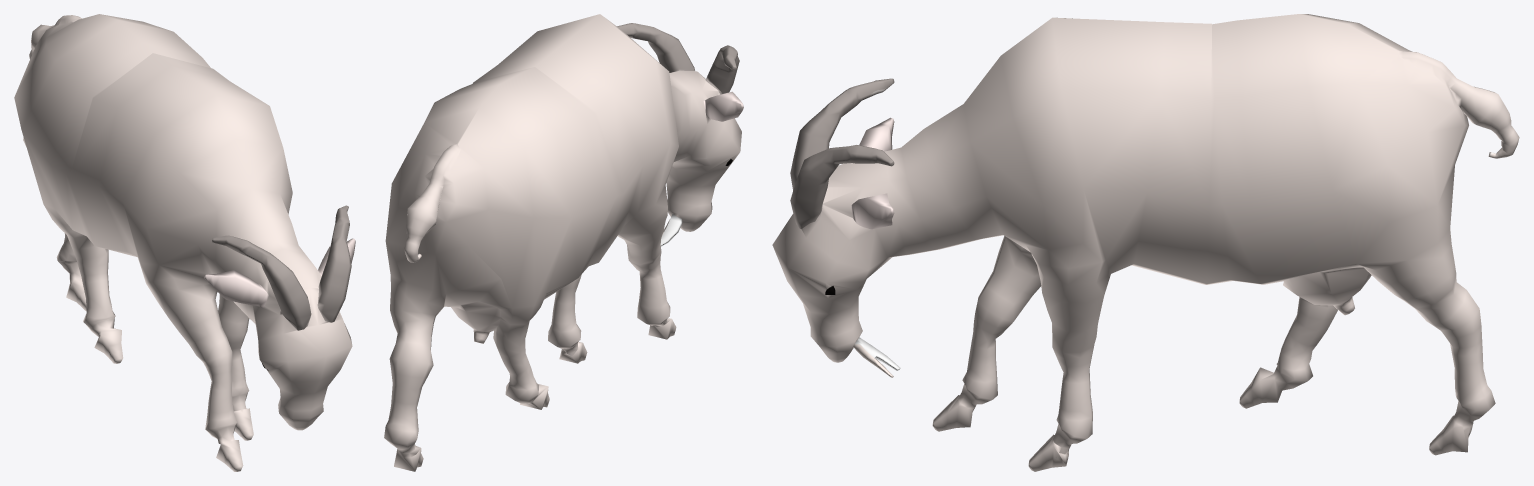
File: goat.fbx
3 views of the same model, side by side, from view 1: azimuth 30°, elevation 25°; view 2: azimuth 150°, elevation 25°; view 3: azimuth 270°, elevation 25° (orthographic). The views are drawn at different scales.
Visible parts, largest first — view 1: unamed; view 2: unamed; view 3: unamed.
Boxes of the visible parts, box(x1,y1,x2,y2) form: unamed: box(14, 14, 355, 471); unamed: box(384, 14, 743, 471); unamed: box(772, 14, 1519, 471).
Bounding box in the file's own units: 0.5288 × 1.02 × 1.57.
1 material, 1 textured.
